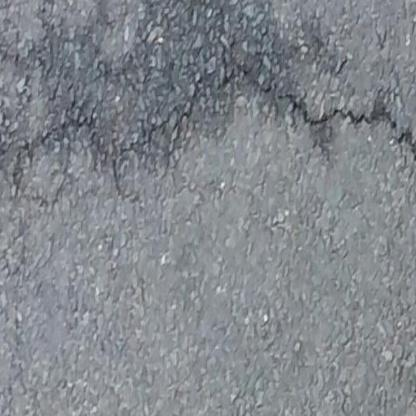Cracks: (0, 43, 416, 208)
